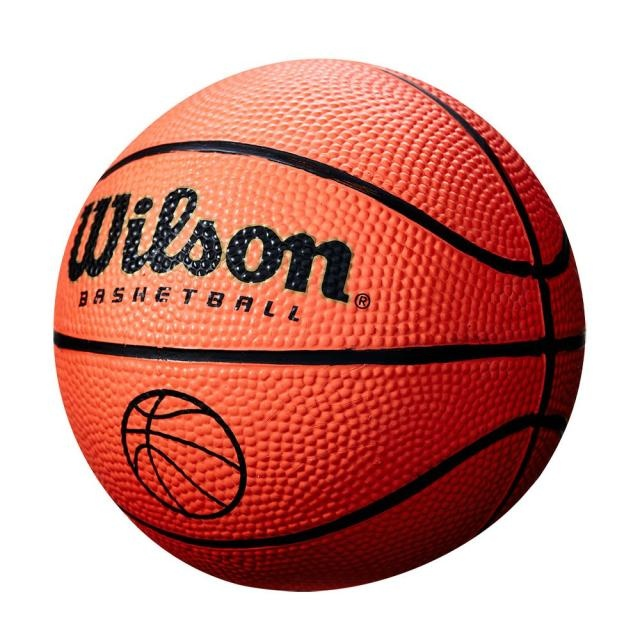agrume: (22, 73, 610, 579)
